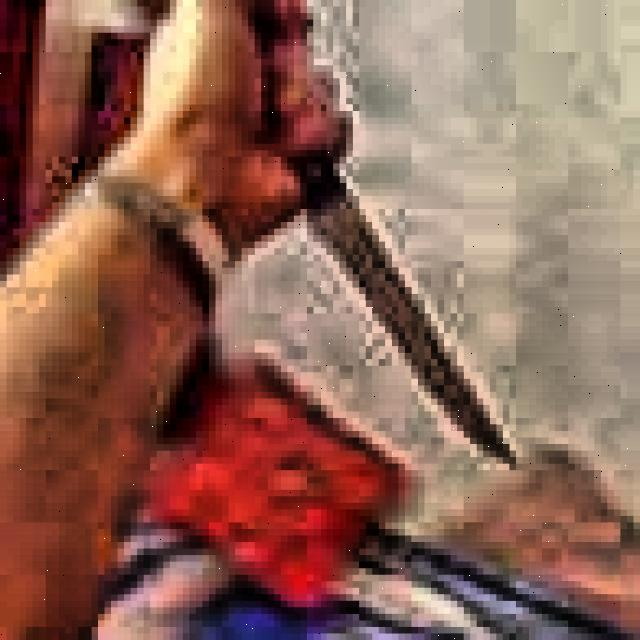knife: (304, 166, 516, 475)
